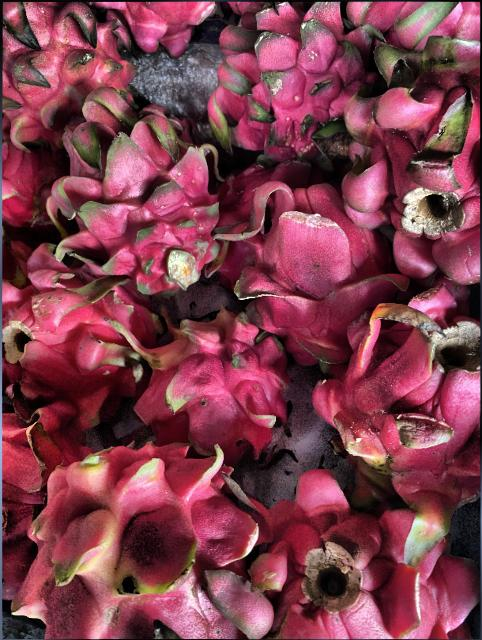buah-naga-matang: (217, 466, 482, 640), (26, 446, 250, 640), (47, 104, 219, 290), (225, 168, 397, 350), (329, 310, 482, 514), (0, 236, 154, 432), (356, 54, 482, 282), (213, 0, 359, 162), (115, 316, 285, 452), (1, 0, 140, 146)
